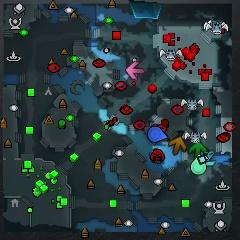p1: (147, 125, 169, 144)
p2: (191, 155, 208, 176)
x1: (126, 61, 145, 80)
x3: (205, 150, 217, 166)
x4: (190, 141, 208, 159)
x5: (170, 137, 187, 156)
